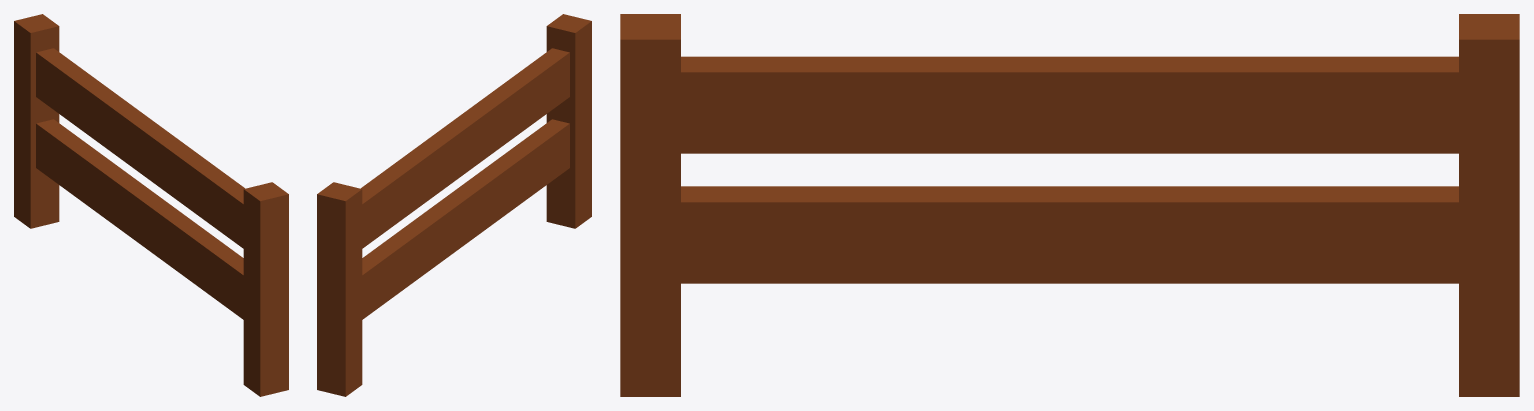
File: Fence.fbx
3 views of the same model, side by side, from view 1: azimuth 30°, elevation 25°; view 2: azimuth 150°, elevation 25°; view 3: azimuth 270°, elevation 25° (orthographic). The views are drawn at different scales.
Parts seen in each view (by area): view 1: Fence; view 2: Fence; view 3: Fence.
Boxes of the visible parts, x1,y1,x2,y2 form: Fence: (14,14,288,396); Fence: (317,14,591,396); Fence: (620,14,1519,396).
Size of the model in its own units: 14.42 by 94 by 214.
